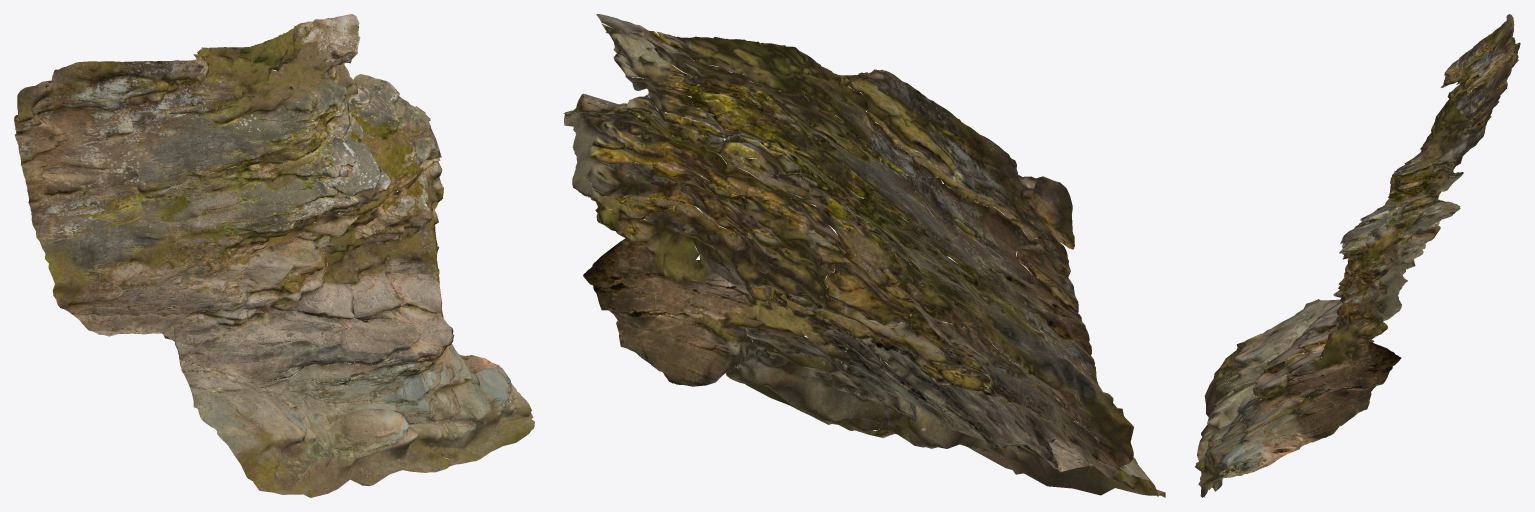
File: rock_face_02.fbx
3 views of the same model, side by side, from view 1: azimuth 30°, elevation 25°; view 2: azimuth 150°, elevation 25°; view 3: azimuth 270°, elevation 25° (orthographic). The views are drawn at different scales.
Parts seen in each view (by area): view 1: rock_face_02; view 2: rock_face_02; view 3: rock_face_02.
Boxes of the visible parts, left/top/right/bottom form: rock_face_02: left=14, top=14, right=534, bottom=497; rock_face_02: left=564, top=14, right=1165, bottom=497; rock_face_02: left=1195, top=14, right=1520, bottom=497.
Bounding box in the file's own units: 2.71 × 2.47 × 2.13.
Materials: 1 (1 with a texture image).
